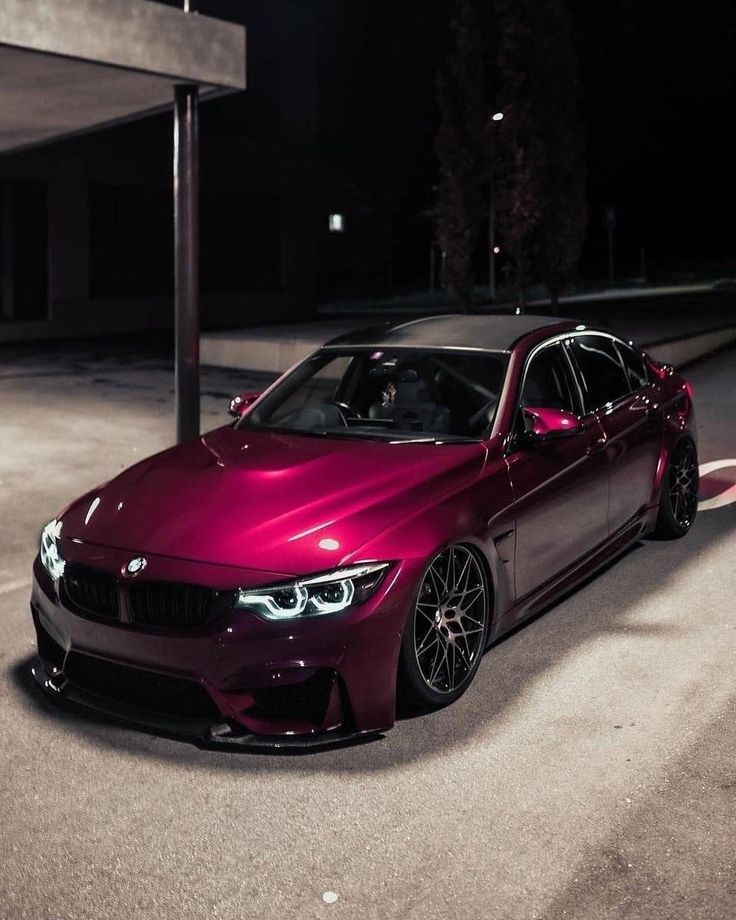car: (19, 300, 704, 779)
